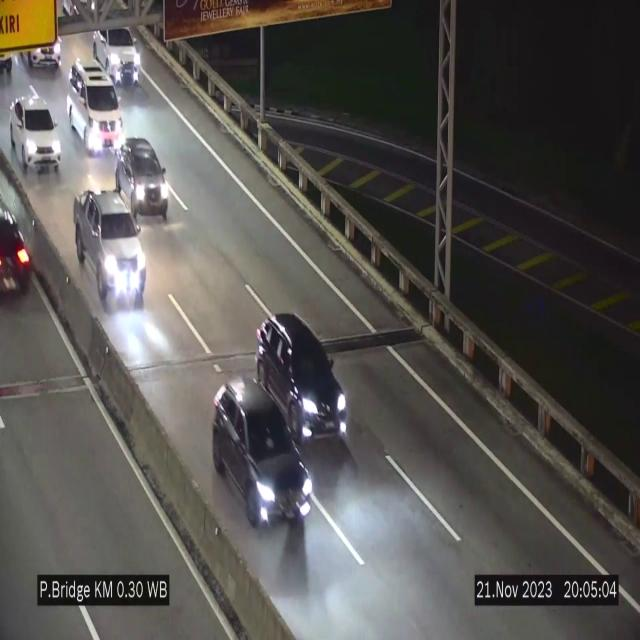Car: (212, 381, 315, 534), (253, 313, 353, 448), (70, 185, 145, 307), (66, 54, 125, 152), (114, 132, 174, 223), (0, 196, 43, 316), (10, 93, 60, 176), (93, 25, 142, 86), (18, 26, 68, 77)
